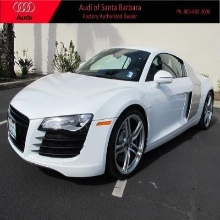no damage: (6, 46, 215, 181)
